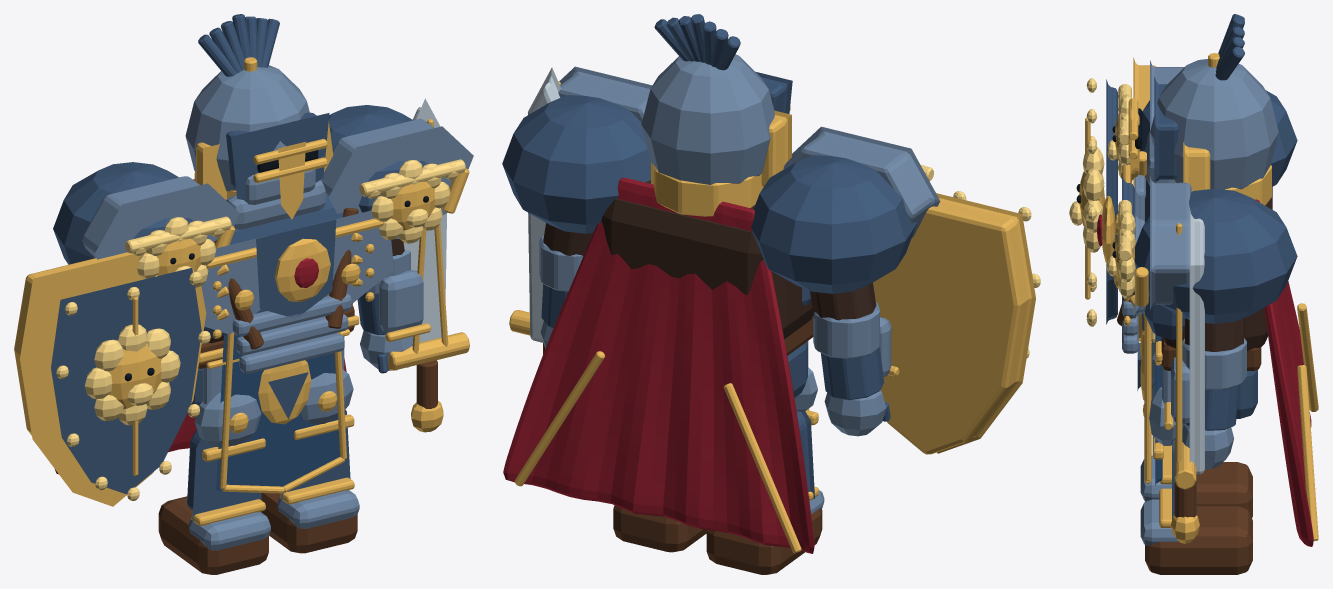
The model's file is Caballero_v2.glb.
3 views of the same model, side by side, from view 1: azimuth 30°, elevation 25°; view 2: azimuth 150°, elevation 25°; view 3: azimuth 270°, elevation 25° (orthographic). The views are drawn at different scales.
Parts seen in each view (by area): view 1: Escudo_azul, Escudo_base, Casco_principal, Tabardo, Hombrera_gigante_Der, Hombrera_gigante_Izq, Hombro_base_Izq, Bota_Izquierda, Frontal_casco, Pecho_central, Pectoral_Izq, Pectoral_Der (+52 smaller); view 2: Capa_roja_voluminosa, Escudo_base, Hombro_base_Izq, Hombro_base_Der, Casco_principal, Torso_base, Hombrera_gigante_Izq, Gorget_cuello, Bota_Izquierda, Codo_Izq, Bota_Derecha, Hombrera_gigante_Der (+13 smaller); view 3: Hombro_base_Der, Casco_principal, Capa_roja_voluminosa, Bota_Derecha, Hombrera_gigante_Der, Hoja_espada, Bota_Izquierda, Codo_Der, Escudo_azul, Frontal_casco, Hombro_base_Izq, Borde_capa_lateral.001 (+37 smaller).
Part boxes in pixels (left/top/right/bottom): Escudo_azul: left=51, top=268, right=201, bottom=494; Escudo_base: left=14, top=251, right=206, bottom=506; Casco_principal: left=185, top=65, right=309, bottom=191; Tabardo: left=216, top=334, right=339, bottom=490; Hombrera_gigante_Der: left=321, top=119, right=473, bottom=238; Hombrera_gigante_Izq: left=82, top=176, right=239, bottom=259; Hombro_base_Izq: left=53, top=162, right=193, bottom=264; Bota_Izquierda: left=158, top=496, right=268, bottom=574; Frontal_casco: left=226, top=112, right=329, bottom=200; Pecho_central: left=256, top=219, right=336, bottom=317; Pectoral_Izq: left=201, top=236, right=266, bottom=334; Pectoral_Der: left=313, top=210, right=393, bottom=303; Capa_roja_voluminosa: left=503, top=177, right=814, bottom=553; Escudo_base: left=873, top=193, right=1035, bottom=454; Hombro_base_Izq: left=751, top=155, right=916, bottom=293; Hombro_base_Der: left=502, top=95, right=650, bottom=233; Casco_principal: left=641, top=54, right=774, bottom=184; Torso_base: left=601, top=180, right=813, bottom=338; Hombrera_gigante_Izq: left=783, top=126, right=940, bottom=237; Gorget_cuello: left=651, top=162, right=763, bottom=216; Bota_Izquierda: left=706, top=509, right=822, bottom=574; Codo_Izq: left=813, top=302, right=879, bottom=358; Bota_Derecha: left=613, top=505, right=706, bottom=552; Hombrera_gigante_Der: left=558, top=66, right=652, bottom=122; Hombro_base_Der: left=1134, top=188, right=1297, bottom=323; Casco_principal: left=1150, top=59, right=1278, bottom=189; Capa_roja_voluminosa: left=1255, top=199, right=1313, bottom=546; Bota_Derecha: left=1145, top=505, right=1252, bottom=574; Hombrera_gigante_Der: left=1150, top=176, right=1191, bottom=310; Hoja_espada: left=1189, top=208, right=1204, bottom=474; Bota_Izquierda: left=1157, top=462, right=1252, bottom=517; Codo_Der: left=1182, top=338, right=1246, bottom=389; Escudo_azul: left=1106, top=79, right=1117, bottom=324; Frontal_casco: left=1154, top=76, right=1178, bottom=182; Hombro_base_Izq: left=1139, top=90, right=1297, bottom=186; Borde_capa_lateral.001: left=1297, top=365, right=1318, bottom=541.
Bounding box in the file's own units: 2.66 × 2.78 × 1.2.
